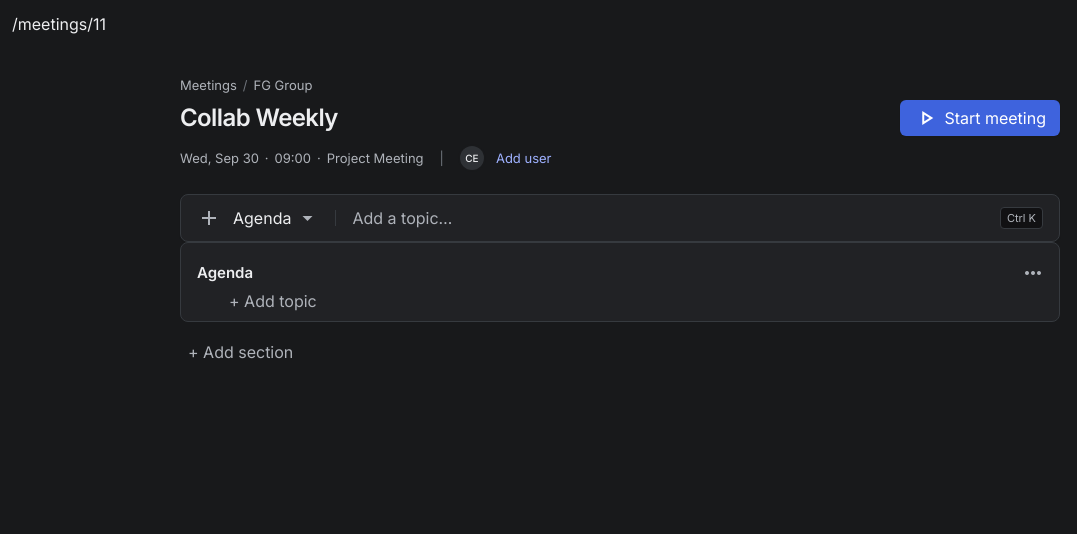
Test: MeetingDetailPage collaboration controls › shows Start and inline section creation to a project participant with the viewer role
Expected: the heading "Collab Weekly" is shown, left=180, top=102, right=338, bottom=134
Expected: the button "Start meeting" is shown, left=900, top=100, right=1060, bottom=136
Click the button "Add user": (524, 158) left=496, top=149, right=552, bottom=167
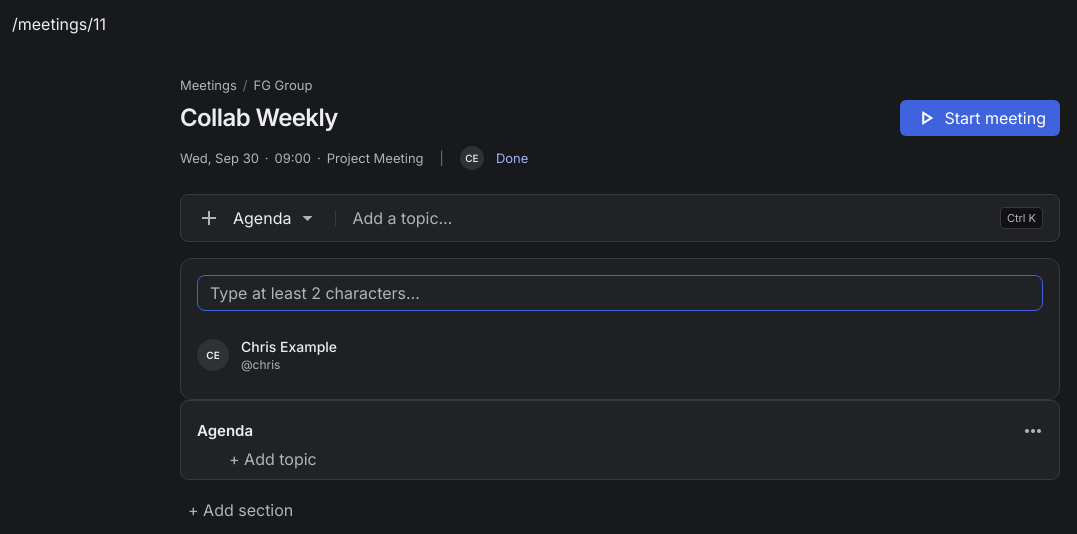
Result: the field named "Search people to add" is shown at left=197, top=275, right=1043, bottom=311
